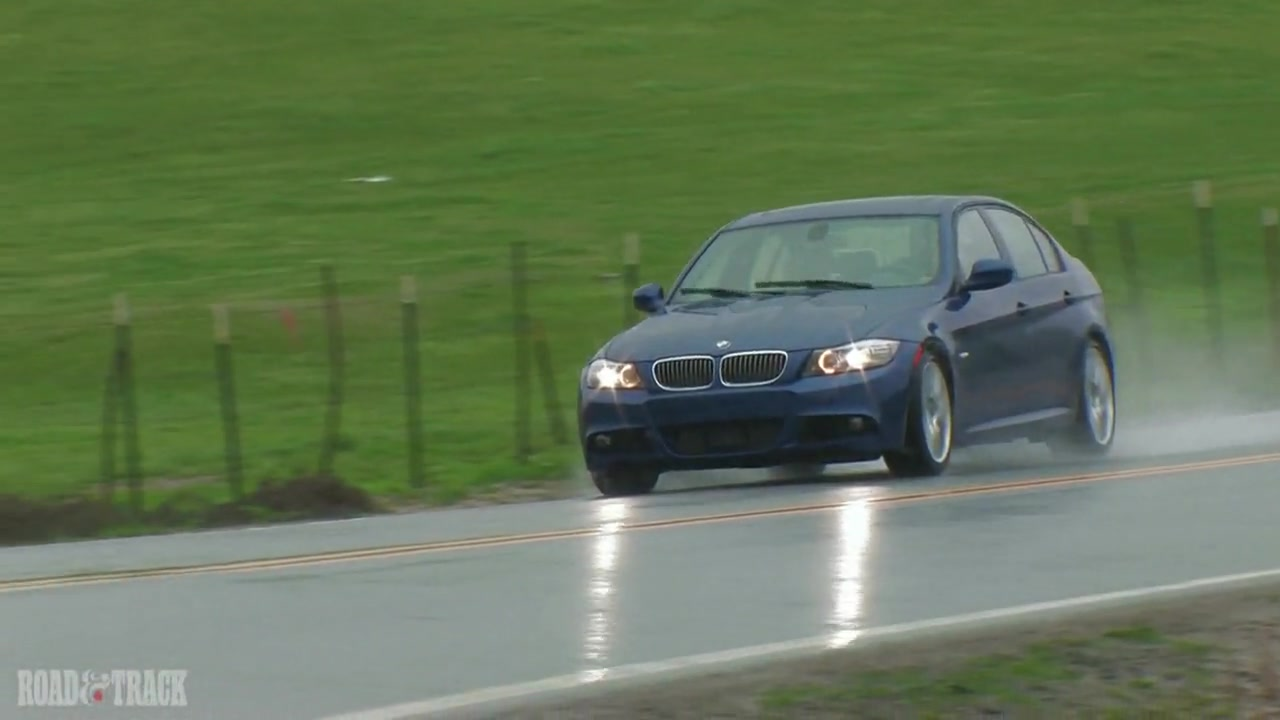car: (576, 193, 1121, 501)
